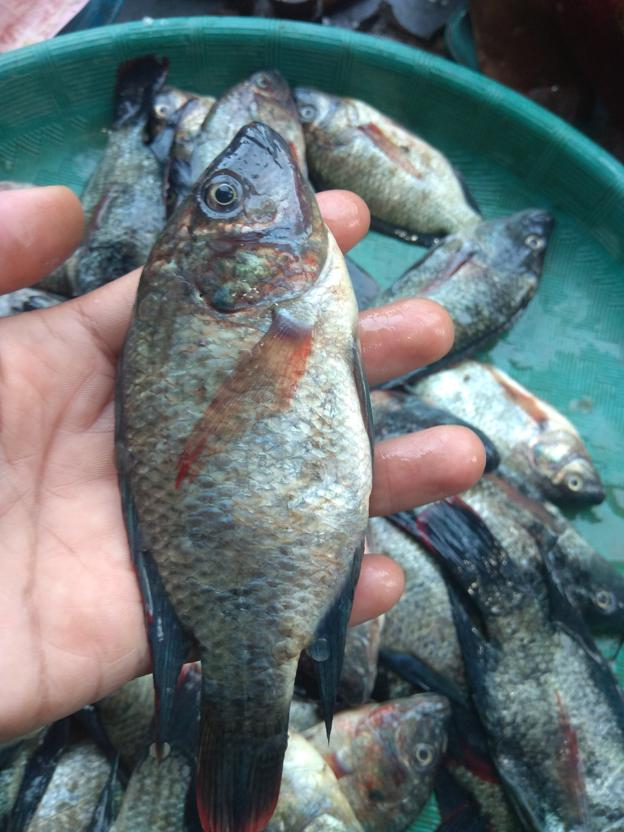Fish head: (132, 119, 349, 315), (340, 692, 453, 822), (549, 524, 620, 644), (459, 205, 559, 282), (526, 430, 607, 508), (292, 86, 359, 173), (63, 239, 148, 298), (224, 65, 296, 125), (146, 78, 198, 155)
Fish tail: (188, 691, 293, 829), (388, 492, 512, 601), (113, 51, 173, 126)
